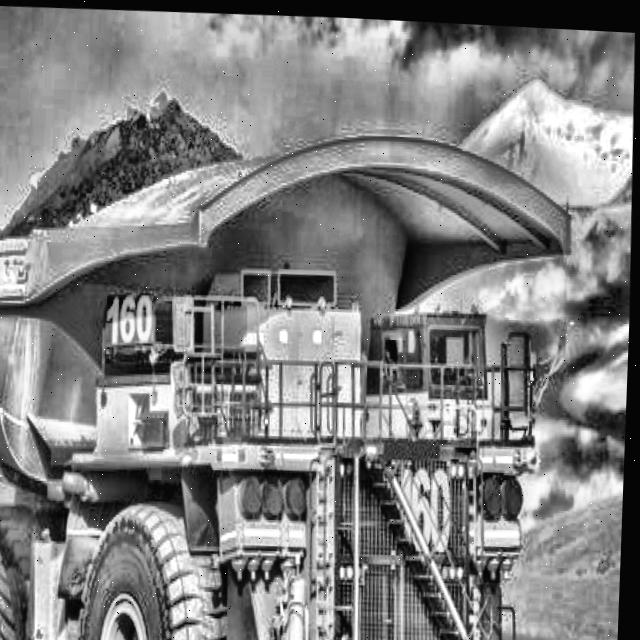dump_truck: (0, 19, 583, 640)
